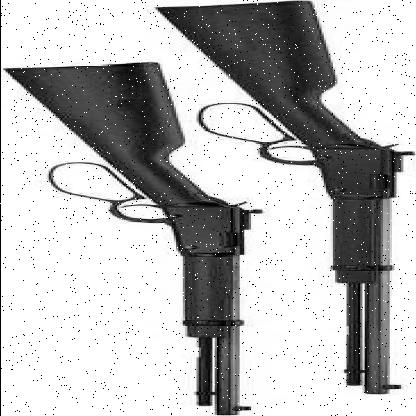rifle: (141, 3, 416, 395), (2, 61, 300, 415)
